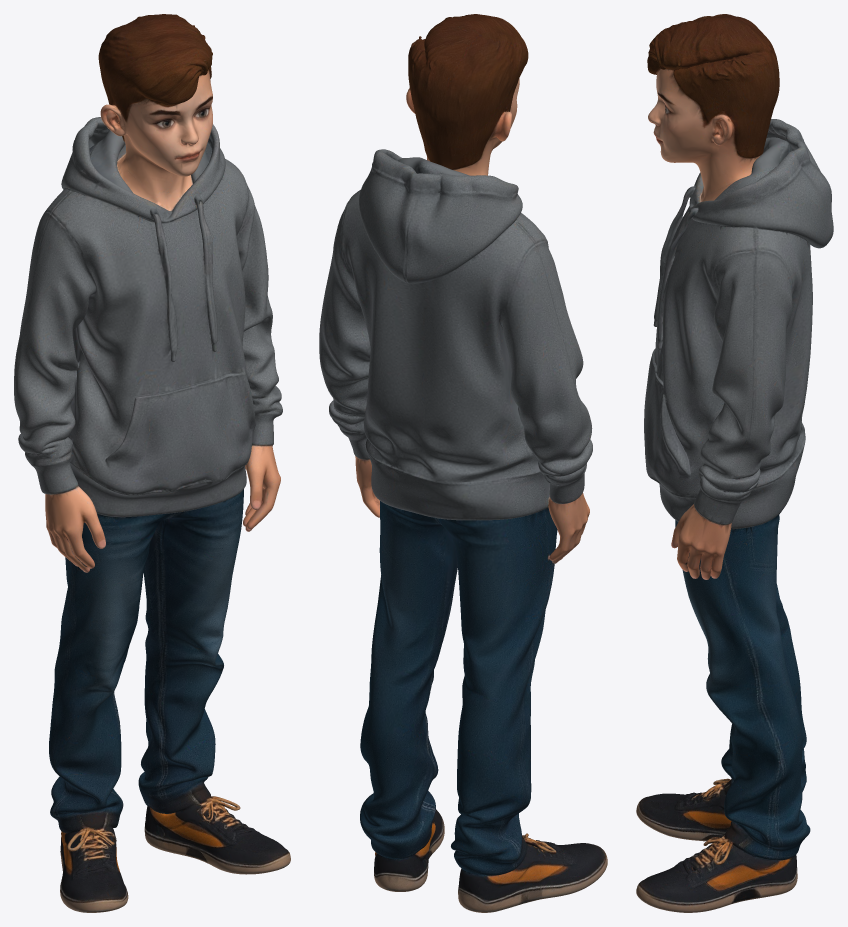
Rendered from mannequin-teen.glb.
3 renders of one model, left to right at view 1: azimuth 30°, elevation 25°; view 2: azimuth 150°, elevation 25°; view 3: azimuth 270°, elevation 25°, orthographic.
Size of the model in its own units: 0.5973 by 1.9 by 0.4018.
Materials: 1 (1 with a texture image).
